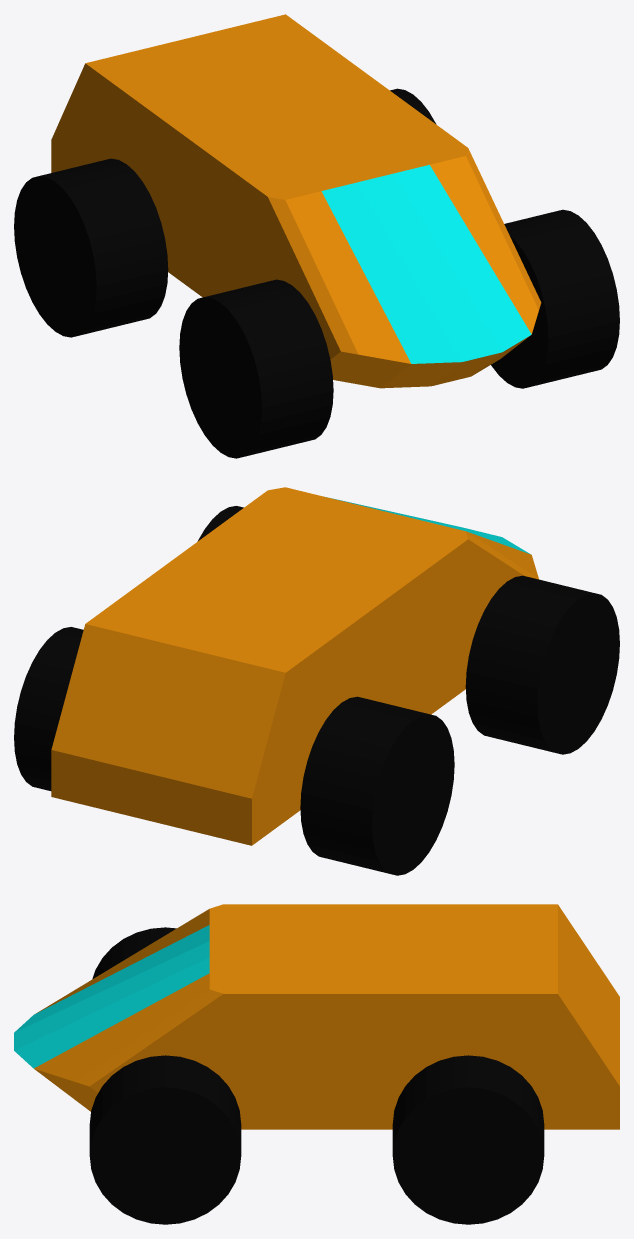
File: MediumGroundModel.fbx
3 renders of one model, top to bottom at view 1: azimuth 30°, elevation 25°; view 2: azimuth 150°, elevation 25°; view 3: azimuth 270°, elevation 25°, orthographic. The views are drawn at different scales.
Parts seen in each view (by area): view 1: Cylinder.003; view 2: Cylinder.003; view 3: Cylinder.003.
Part boxes in pixels (x1,y1,x2,y2): Cylinder.003: [14, 14, 619, 458]; Cylinder.003: [14, 487, 619, 875]; Cylinder.003: [14, 904, 619, 1224].
Size of the model in its own units: 125 by 71.25 by 200.
